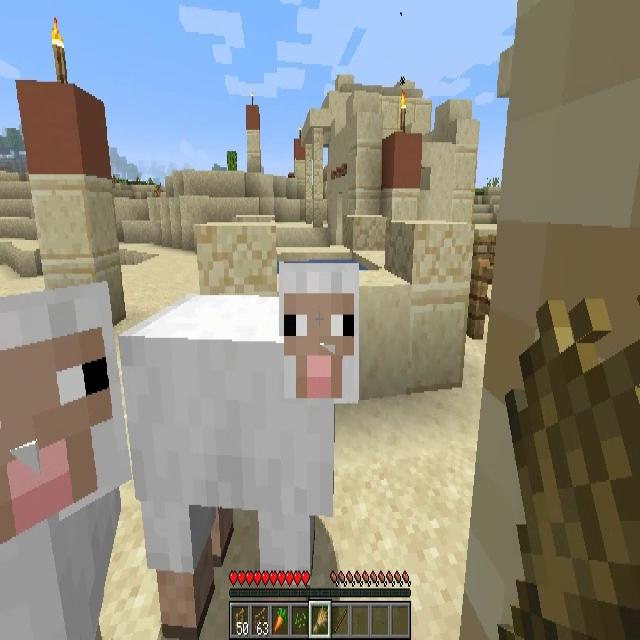sheep: (124, 262, 362, 569), (0, 281, 129, 640)
